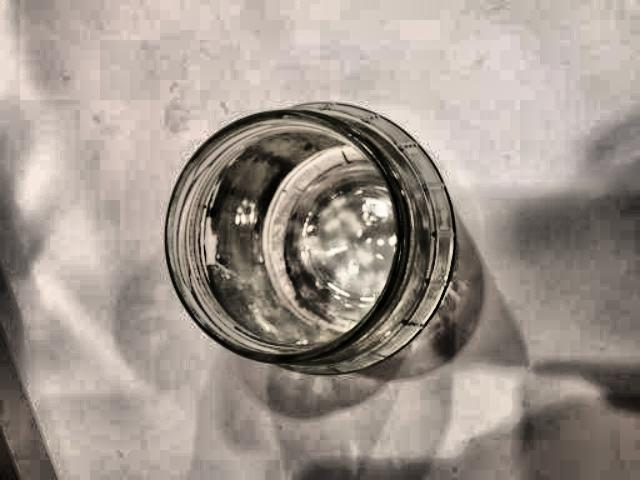Almennt: (111, 72, 494, 405)
